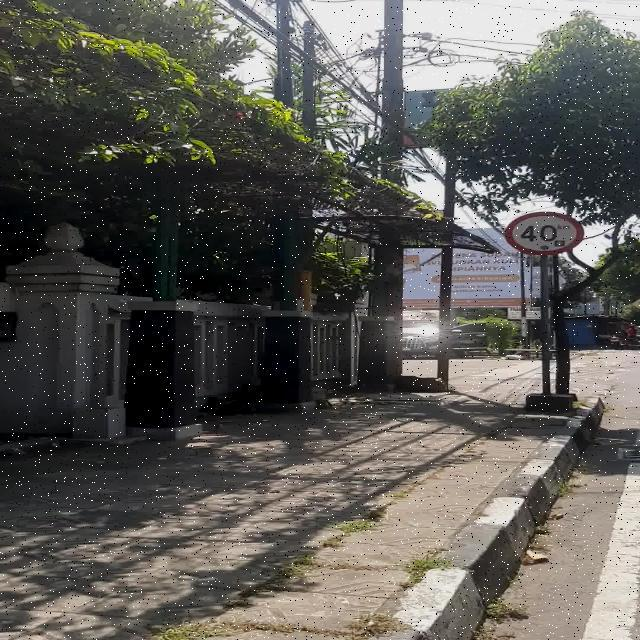Kecepatan Maks. 40 km: (504, 211, 584, 256)
